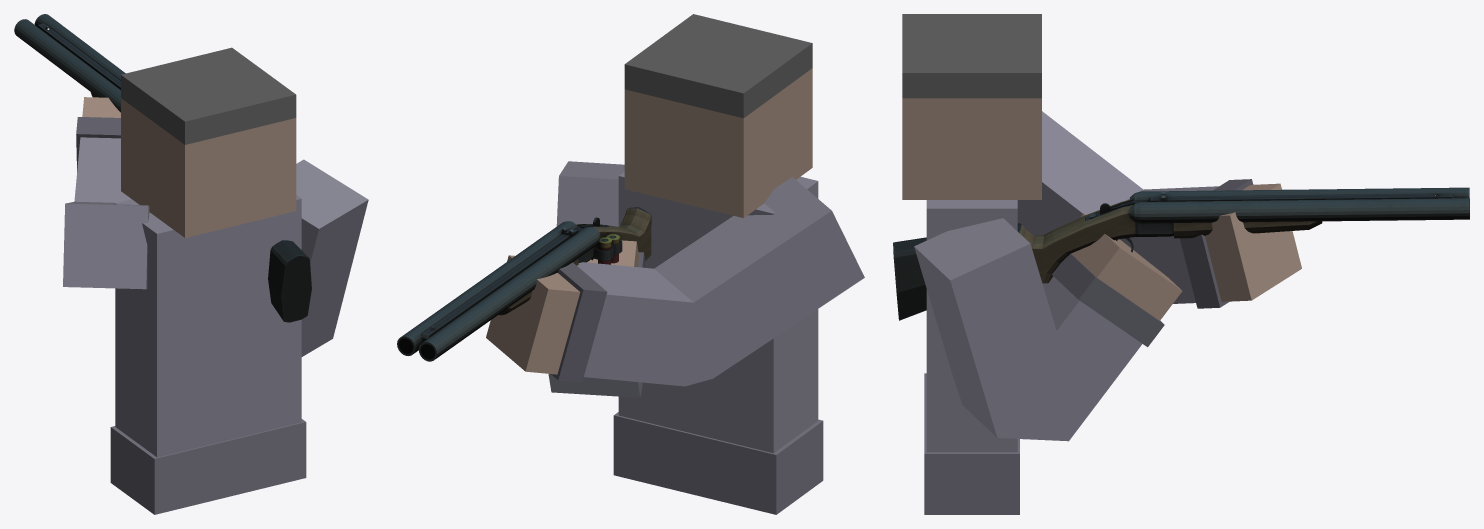
The model's file is Shotgun.gltf.
3 renders of one model, left to right at view 1: azimuth 30°, elevation 25°; view 2: azimuth 150°, elevation 25°; view 3: azimuth 270°, elevation 25°, orthographic. The views are drawn at different scales.
Bounding box in the file's own units: 5.24 × 6.8 × 8.25.
2 materials, 1 textured.
